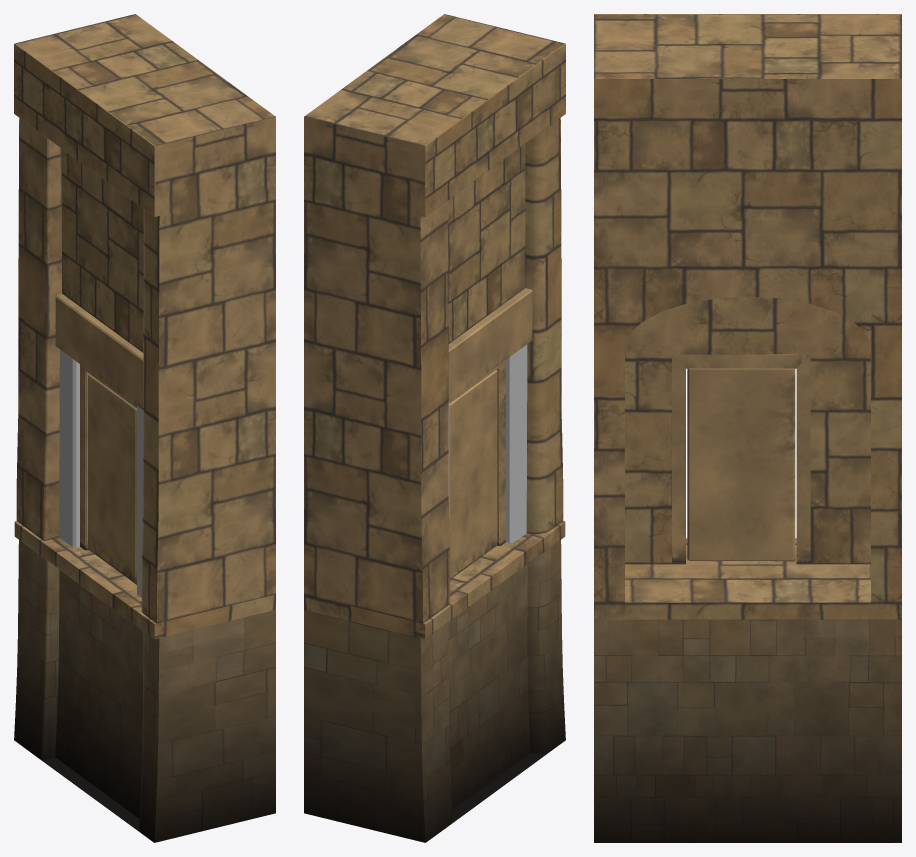
File: WallDoor.fbx
The picture shows the model from 3 angles, left to right: view 1: azimuth 30°, elevation 25°; view 2: azimuth 150°, elevation 25°; view 3: azimuth 270°, elevation 25°; orthographic projection. The views are drawn at different scales.
Visible parts, largest first — view 1: WallDoor, FloorDoor, AN_DO; view 2: WallDoor, FloorDoor, AN_DO; view 3: WallDoor, FloorDoor, AN_DO.
Boxes of the visible parts, <box> form: WallDoor: <box>14,14,275,623</box>; FloorDoor: <box>14,521,275,842</box>; AN_DO: <box>88,373,136,584</box>; WallDoor: <box>304,14,565,623</box>; FloorDoor: <box>304,521,565,842</box>; AN_DO: <box>449,369,497,579</box>; WallDoor: <box>594,14,901,602</box>; FloorDoor: <box>594,538,901,842</box>; AN_DO: <box>687,368,795,560</box>.
Bounding box in the file's own units: 250 × 1369 × 500.
